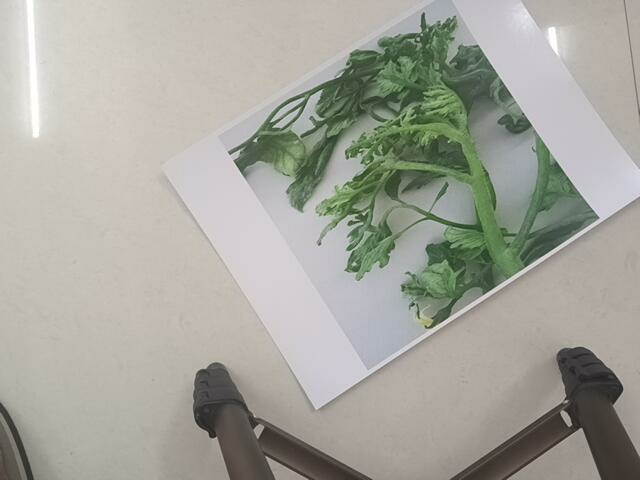Tomamto_Mosaic_virus: (248, 41, 602, 307)
